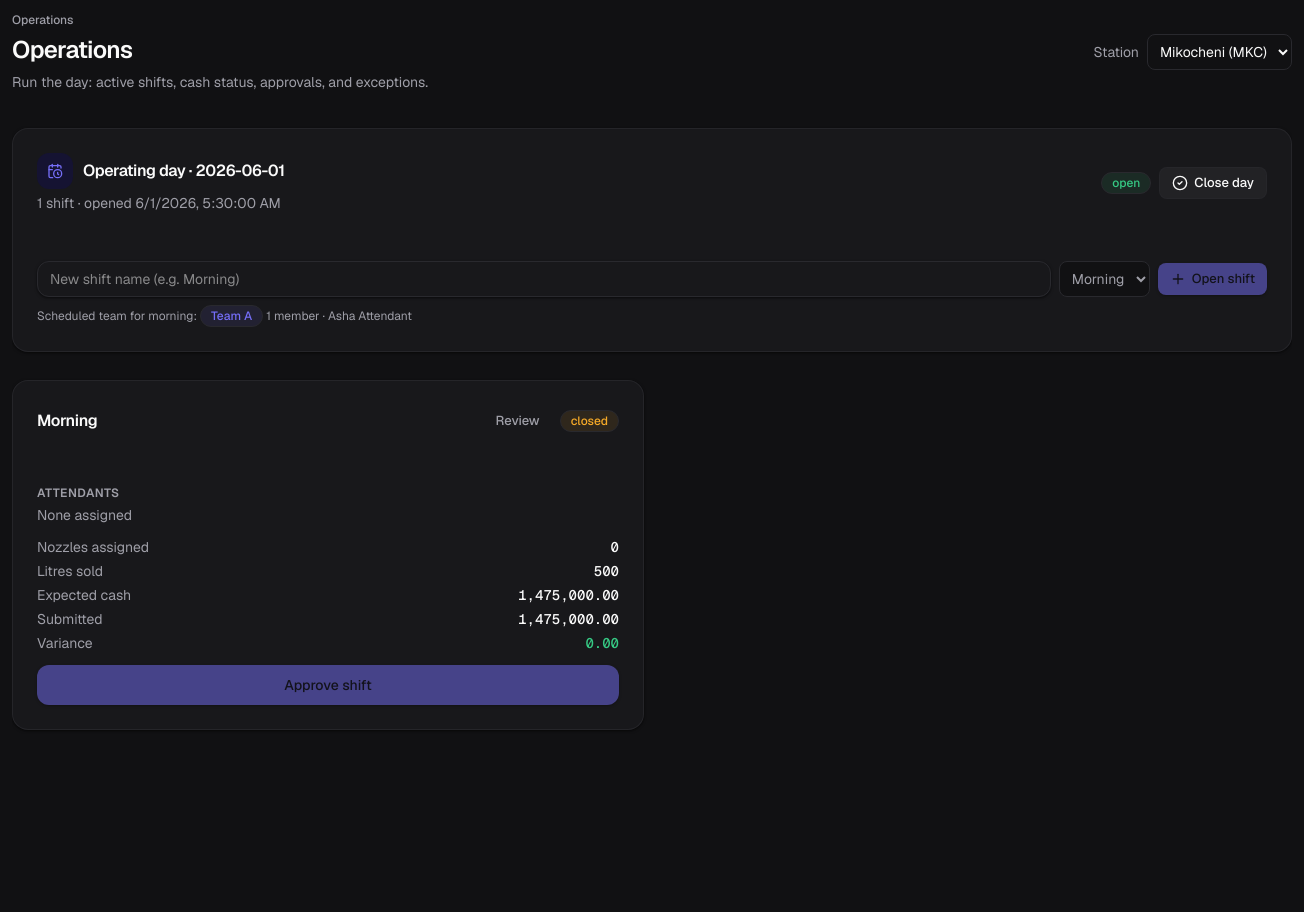
Test: OperationsPage — Phase 5 supervisor gates › hides the override path from users without shift.approve
Type "Evening" into the field with placeholder "New shift name (e.g. Morning)". click: (544, 279)
box: [37,261,1051,297]
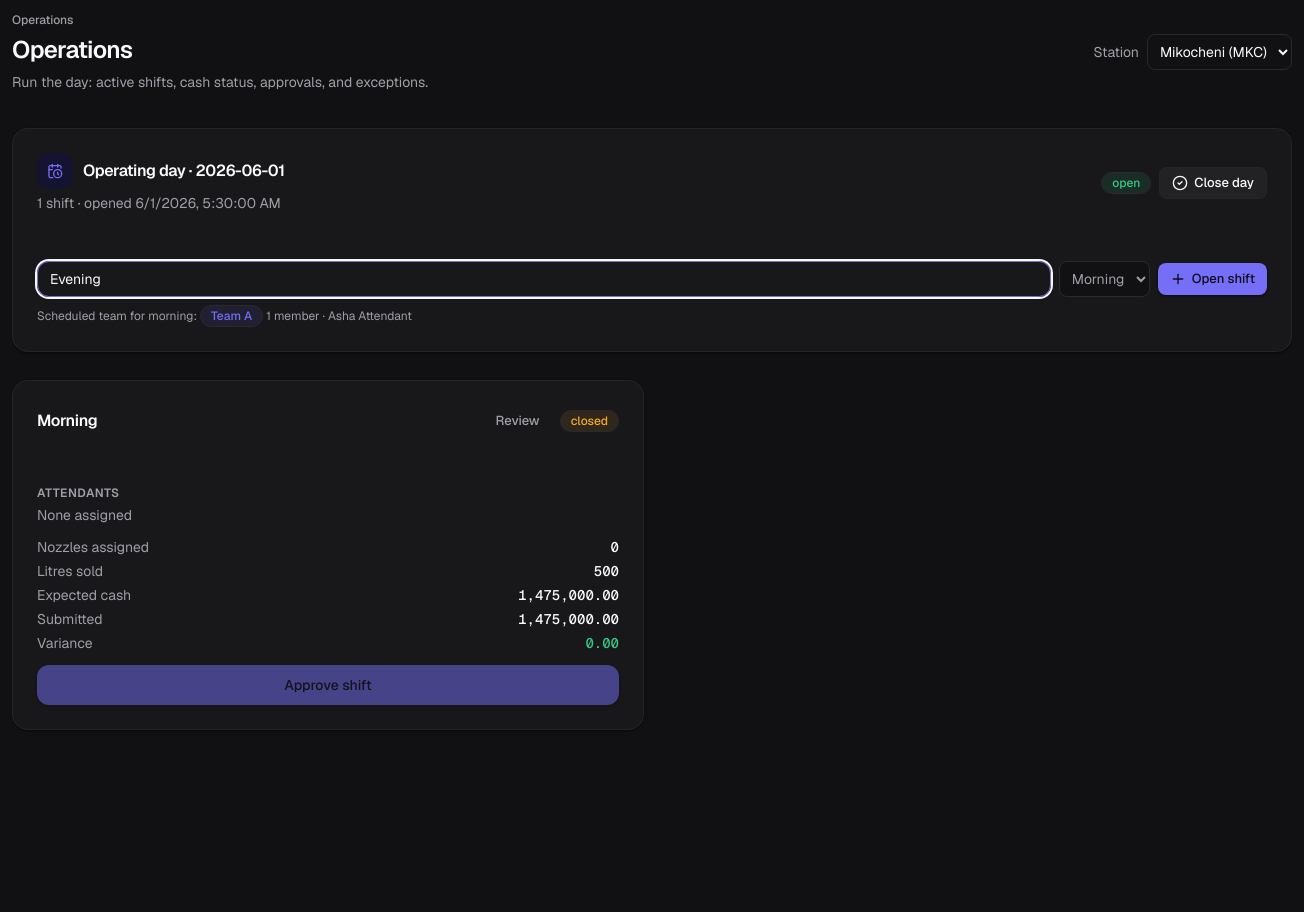
Result: the button "Open shift" is enabled
Click the button "Open shift". click: (1212, 279)
box: [1158,263,1267,295]
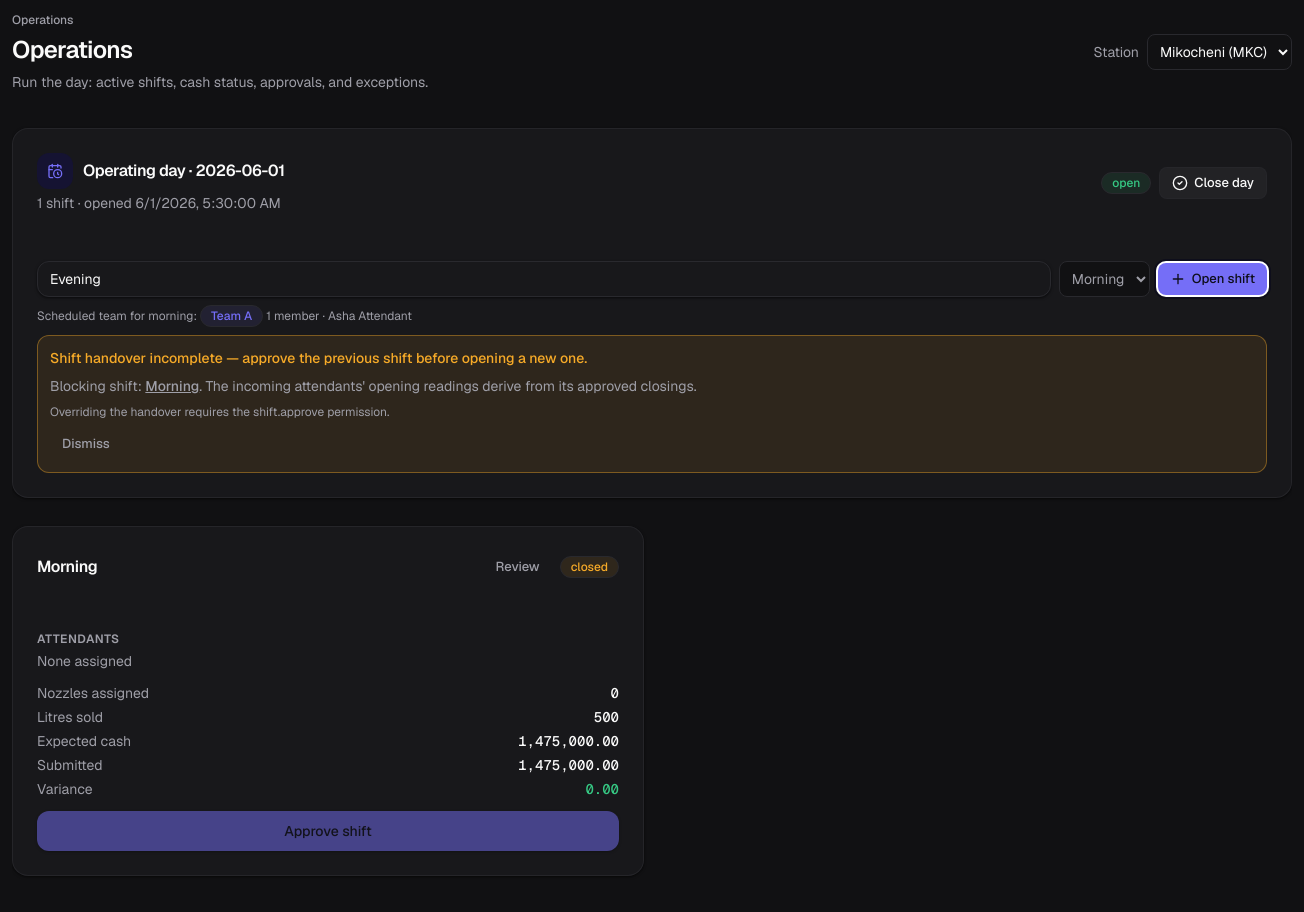
Result: the text "requires the shift.approve permission" is shown at [50,404,389,420]
